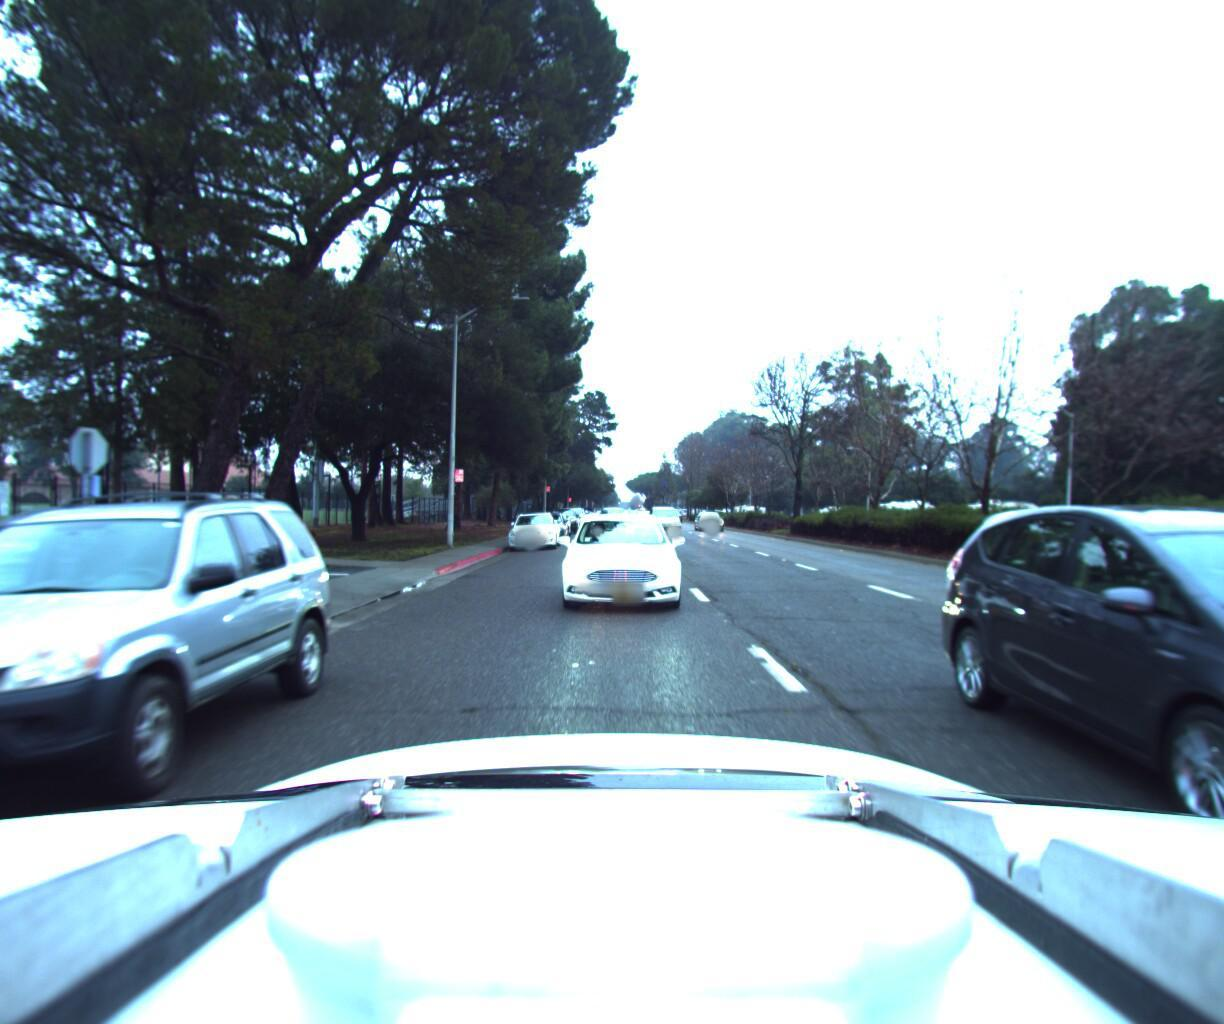car: (0, 457, 346, 901), (993, 494, 1224, 1024), (550, 503, 672, 613), (503, 503, 558, 549), (523, 503, 567, 538), (645, 497, 687, 529), (544, 498, 578, 529), (595, 501, 625, 529), (692, 503, 725, 524)
other_vehicle: (950, 490, 1039, 542), (866, 490, 937, 534)
